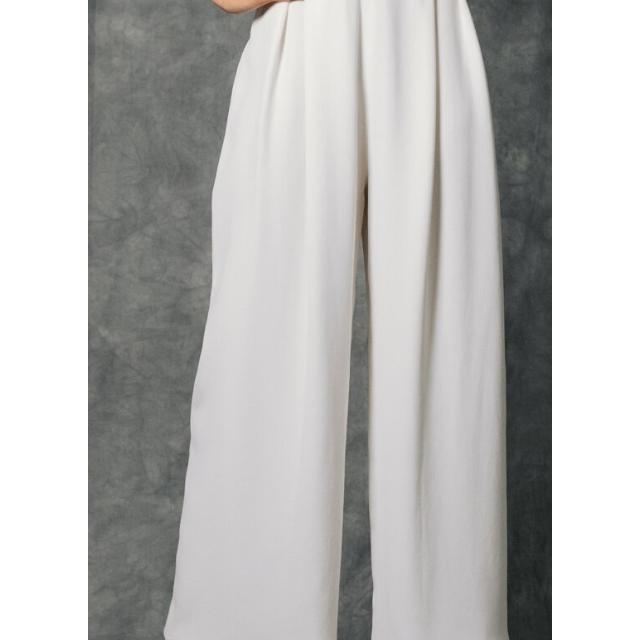silk: (150, 0, 522, 640)
